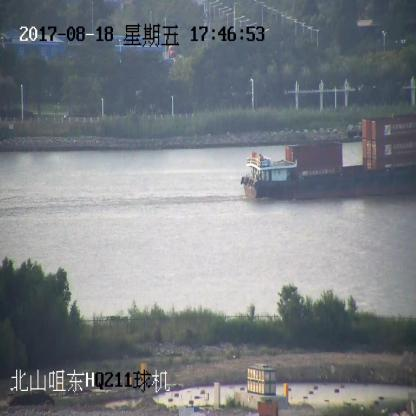Container Ship: (243, 113, 416, 198)
